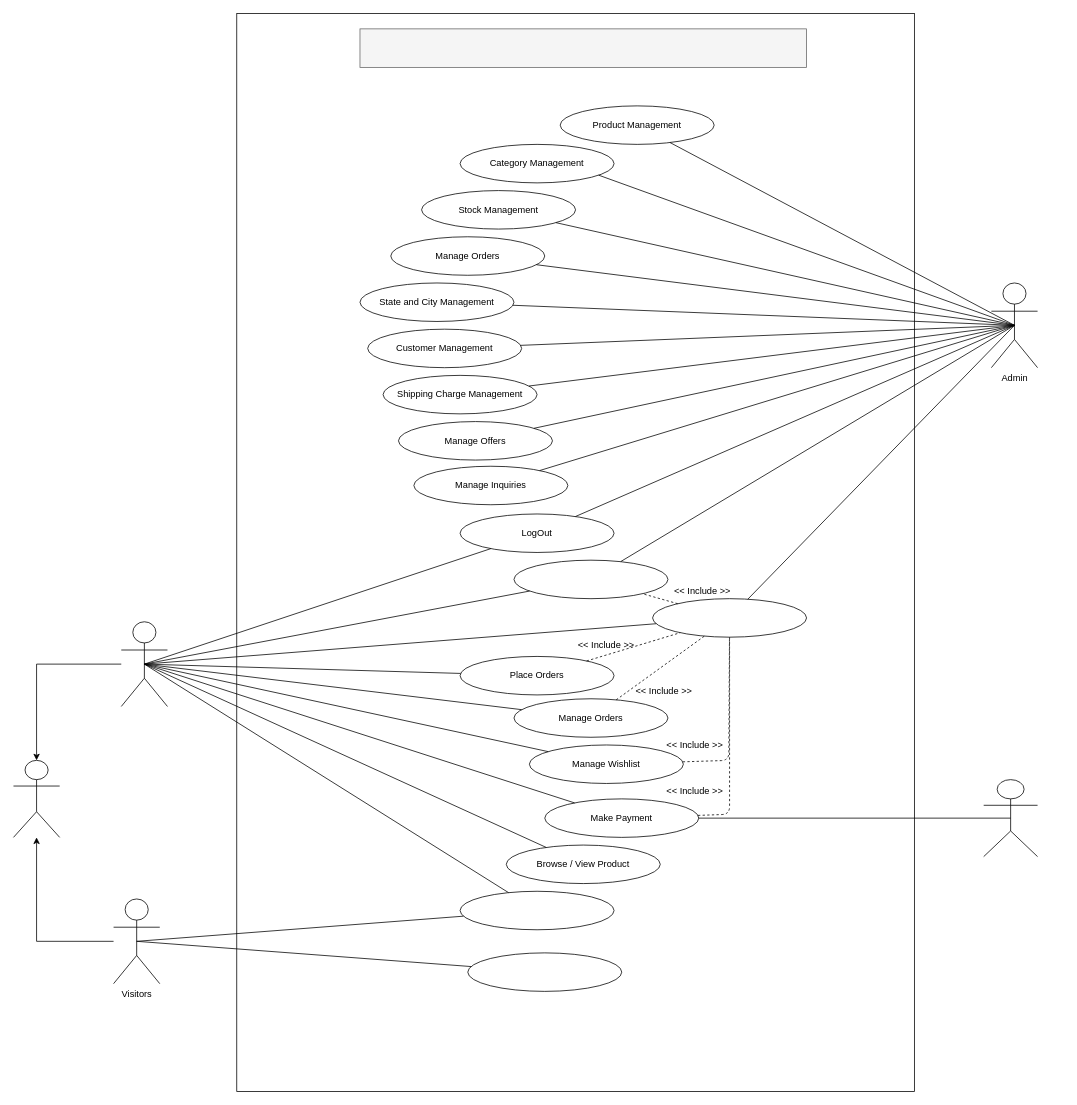
Image size: 1077x1105. Some labels were removed from this diagram. The box of each missing label's shape, as (x1, y1, x2, y2) in pixels:
Login: (652, 598, 807, 637)
Manage Cart: (459, 891, 614, 930)
Manage Profiles: (513, 559, 668, 599)
Payment Service Provider: (983, 779, 1038, 857)
Registered Customer: (121, 621, 167, 706)
Registration: (467, 952, 622, 991)
Use Case Diagram: (359, 28, 807, 67)
User: (13, 760, 60, 837)
